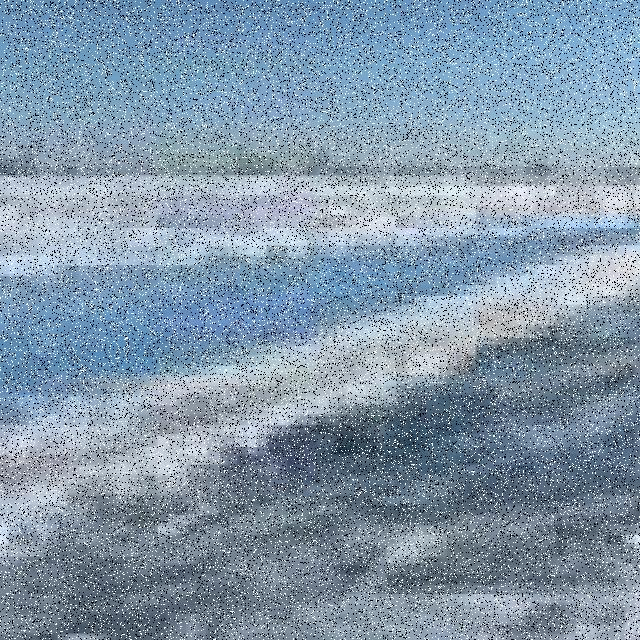ice-road: (0, 296, 640, 640)
